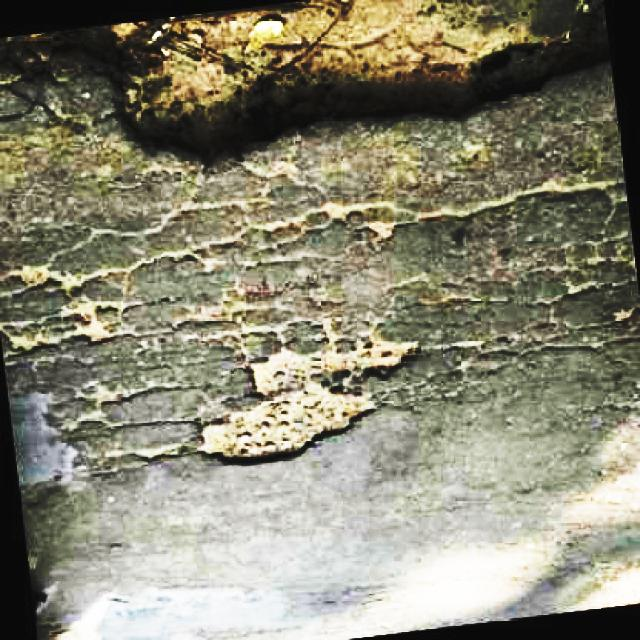pothole: (0, 0, 615, 164), (192, 330, 418, 468), (0, 258, 117, 357)
